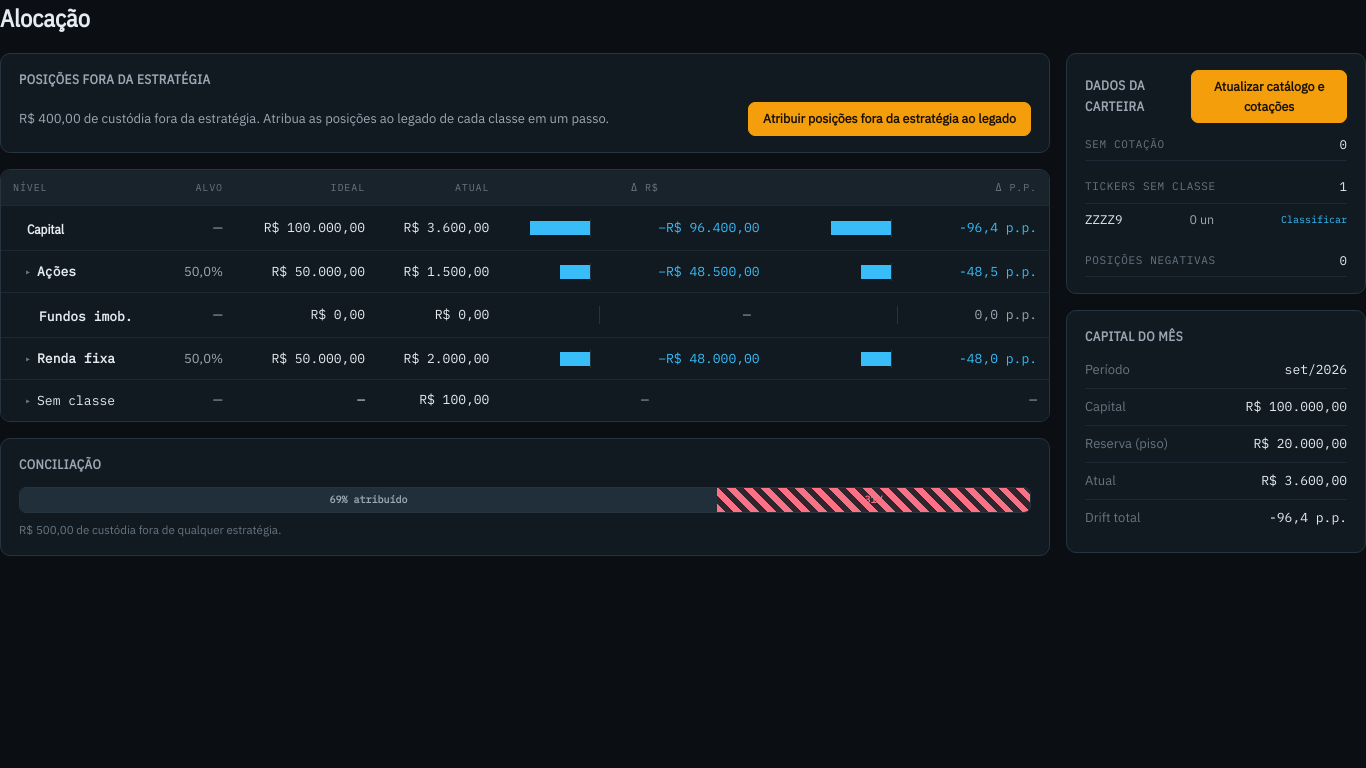
Test: the manual transfer from the bucket › tells the user to import an edition when no report Strategy weighs the ticker
Expected: the text "Ações" is shown, [37, 262, 76, 282]
Click the button "▸" in the row of "R$ 1.500,00". click: [28, 272]
box: [25, 264, 31, 280]
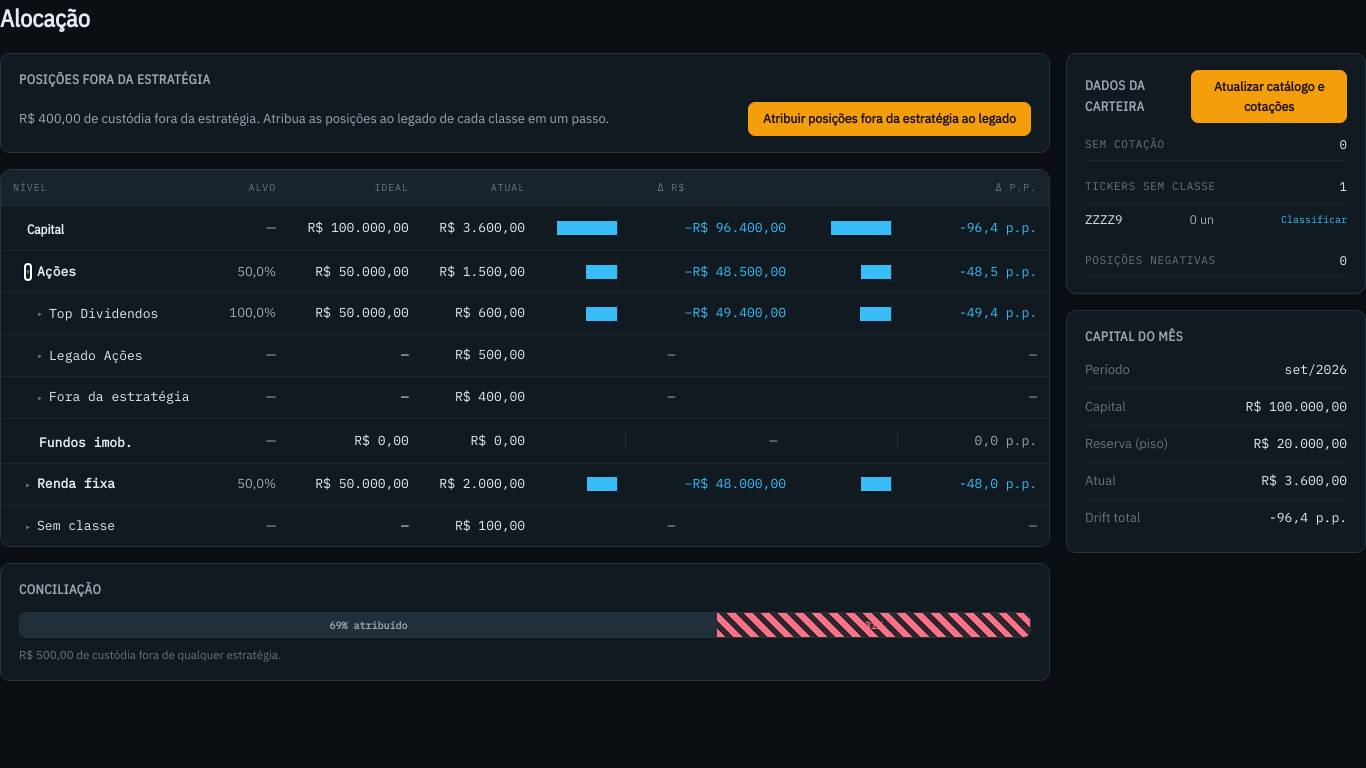
Click the button "▸" next to "Legado Ações". click: [40, 356]
box: [37, 348, 43, 363]
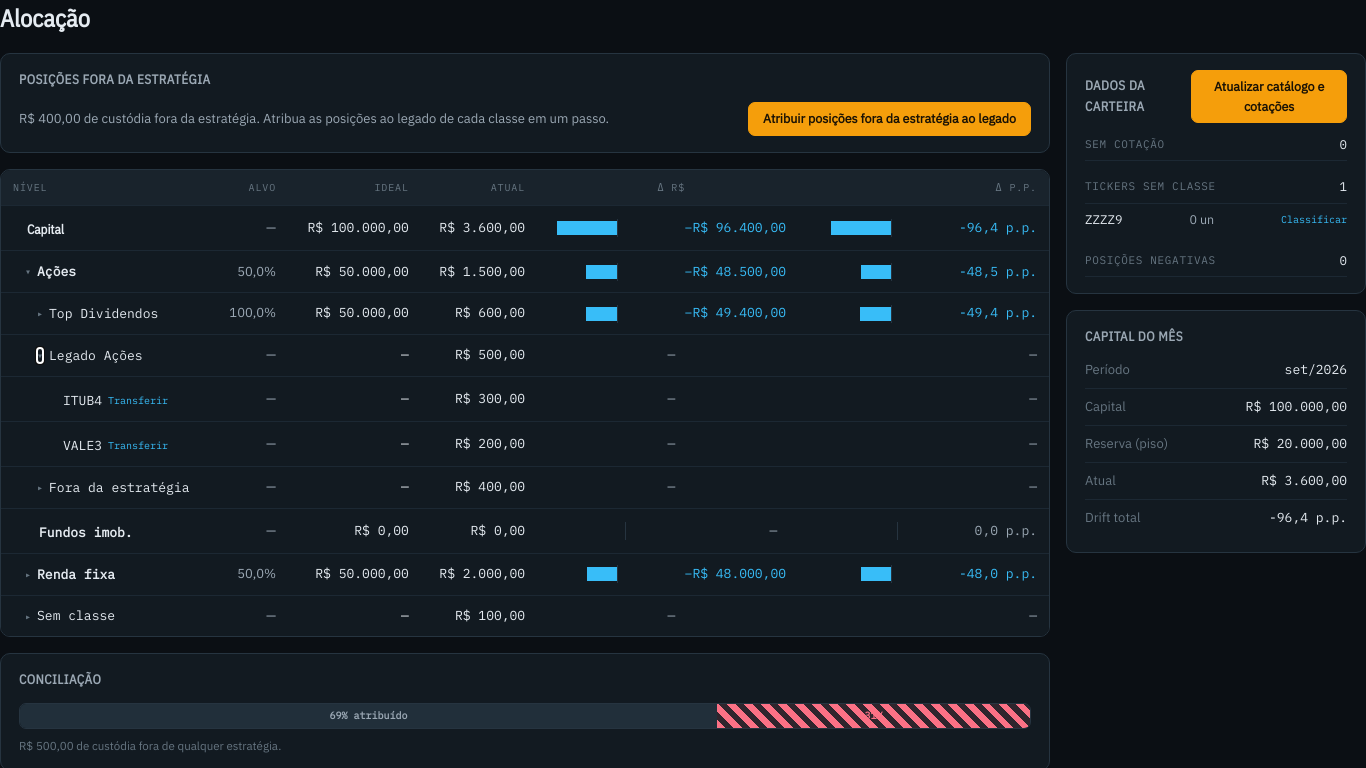
Click the button with aria-label "Transferir ITUB4". click: [138, 401]
box: [108, 393, 168, 408]
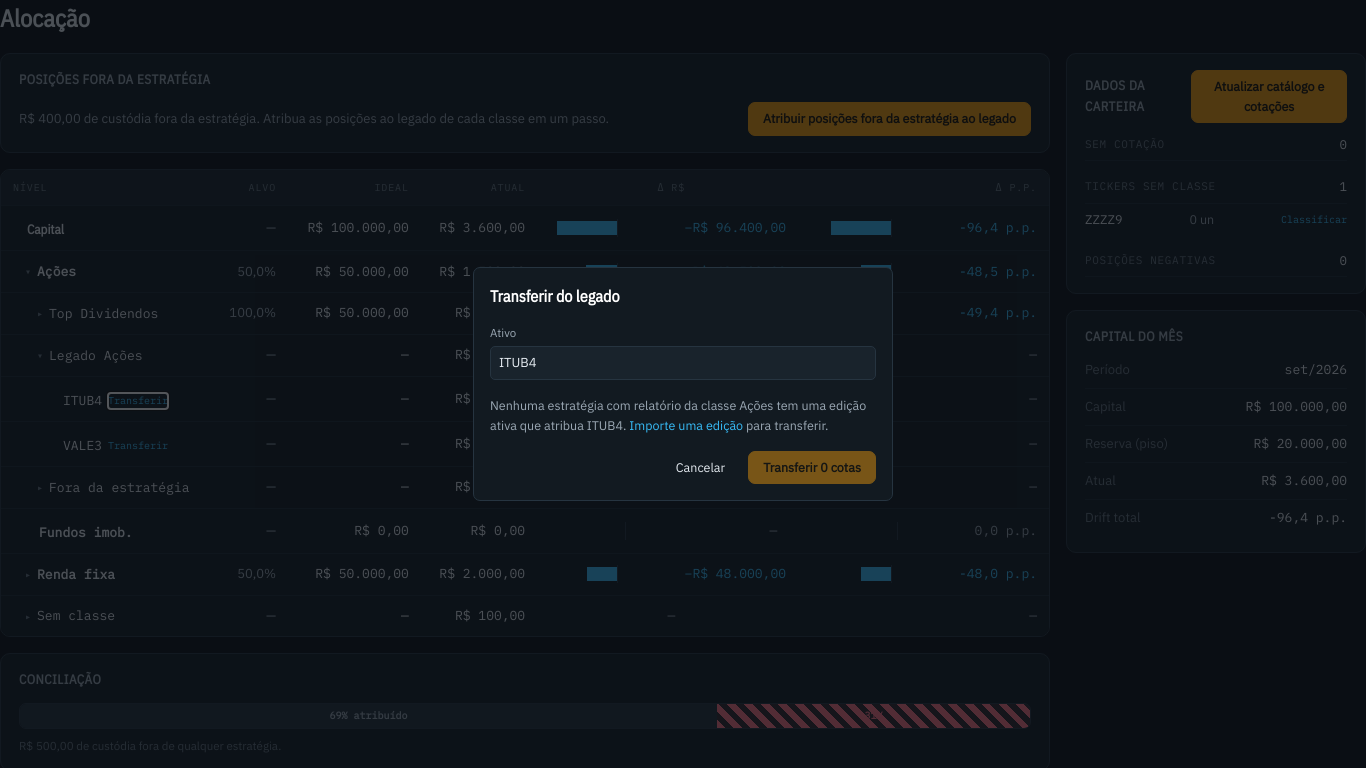
Expected: the dialog "Transferir do legado" is shown
Expected: the link "Importe uma edição" is shown, [629, 417, 743, 433]
